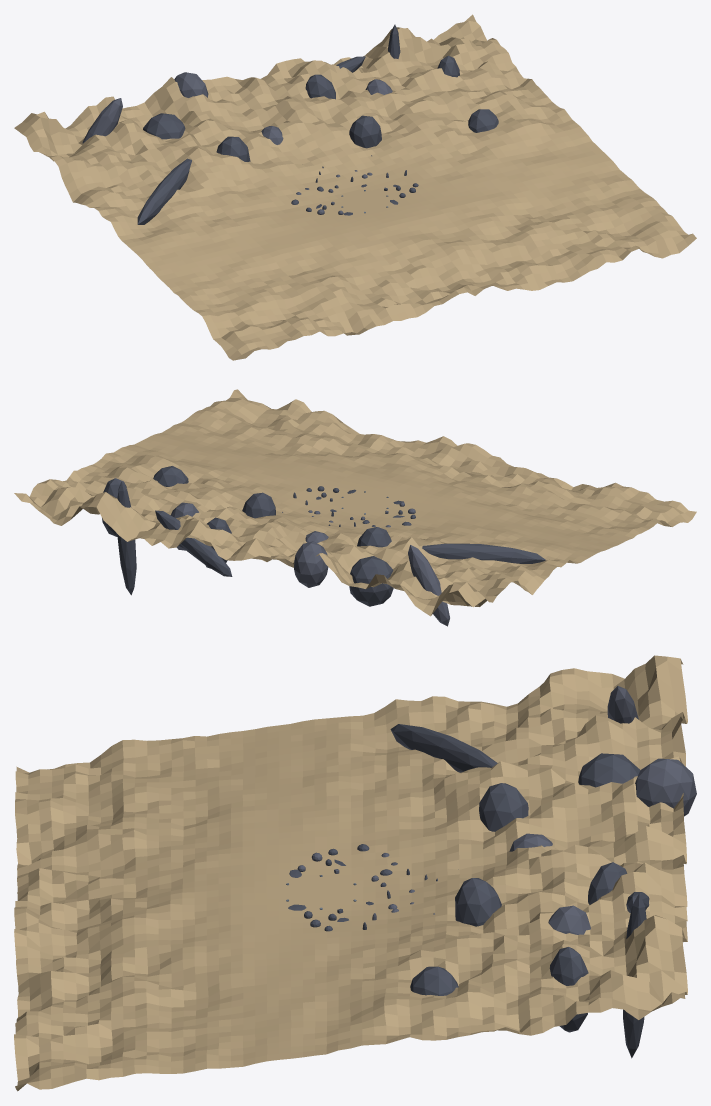
Rendered from planet-env.glb.
3 views of the same model, one above another, from view 1: azimuth 30°, elevation 25°; view 2: azimuth 150°, elevation 25°; view 3: azimuth 270°, elevation 25° (orthographic). The views are drawn at different scales.
Parts seen in each view (by area): view 1: Ground, Icosphere.057, Icosphere.054, Icosphere.052, Icosphere.048, Icosphere.049, Icosphere.060, Icosphere.056, Icosphere.051; view 2: Ground, Icosphere.057, Icosphere.052, Icosphere.049, Icosphere.055, Icosphere.048, Icosphere.061, Icosphere.054, Icosphere.051, Icosphere.056; view 3: Ground, Icosphere.049, Icosphere.057, Icosphere.051, Icosphere.054, Icosphere.052, Icosphere.064, Icosphere.061, Icosphere.056, Icosphere.058, Icosphere.060, Icosphere.048.
Part boxes in pixels (bbox=[...]): Ground: bbox=[14, 14, 696, 360]; Icosphere.057: bbox=[137, 158, 191, 224]; Icosphere.054: bbox=[349, 115, 381, 148]; Icosphere.052: bbox=[143, 113, 185, 139]; Icosphere.048: bbox=[82, 98, 122, 143]; Icosphere.049: bbox=[174, 72, 208, 97]; Icosphere.060: bbox=[305, 74, 335, 99]; Icosphere.056: bbox=[468, 109, 498, 132]; Icosphere.051: bbox=[216, 136, 250, 161]; Ground: bbox=[14, 389, 696, 616]; Icosphere.057: bbox=[422, 543, 545, 563]; Icosphere.052: bbox=[349, 556, 393, 606]; Icosphere.049: bbox=[294, 541, 328, 587]; Icosphere.055: bbox=[155, 510, 232, 576]; Icosphere.048: bbox=[408, 545, 449, 626]; Icosphere.061: bbox=[117, 481, 136, 595]; Icosphere.054: bbox=[242, 492, 275, 518]; Icosphere.051: bbox=[357, 527, 391, 547]; Icosphere.056: bbox=[153, 466, 188, 486]; Ground: bbox=[14, 655, 687, 1091]; Icosphere.049: bbox=[635, 758, 696, 816]; Icosphere.057: bbox=[390, 724, 497, 772]; Icosphere.051: bbox=[479, 783, 528, 831]; Icosphere.054: bbox=[455, 878, 501, 926]; Icosphere.052: bbox=[578, 753, 640, 787]; Icosphere.064: bbox=[549, 947, 588, 1032]; Icosphere.061: bbox=[623, 893, 646, 1058]; Icosphere.056: bbox=[410, 966, 458, 995]; Icosphere.058: bbox=[548, 905, 590, 934]; Icosphere.060: bbox=[588, 862, 627, 904]; Icosphere.048: bbox=[607, 686, 638, 723].
Size of the model in its own units: 105 by 25.13 by 90.86.
